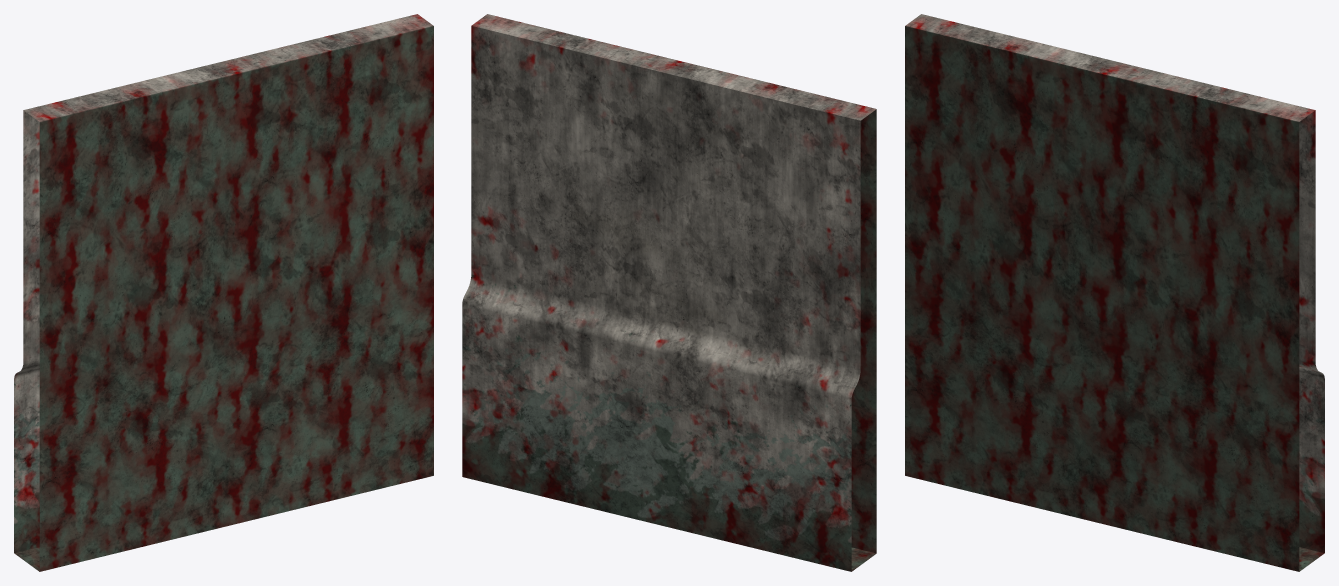
Rendered from WallProp.fbx.
3 views of the same model, side by side, from view 1: azimuth 30°, elevation 25°; view 2: azimuth 150°, elevation 25°; view 3: azimuth 330°, elevation 25° (orthographic).
Parts seen in each view (by area): view 1: Cube; view 2: Cube; view 3: Cube.
Part boxes in pixels (bbox=[...]): Cube: bbox=[14, 14, 433, 571]; Cube: bbox=[462, 14, 876, 571]; Cube: bbox=[905, 14, 1324, 571].
Bounding box in the file's own units: 1051 × 1147 × 118.
Materials: 1 (1 with a texture image).
